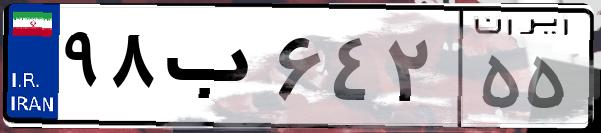2: (385, 28, 445, 110)
4: (330, 28, 385, 110)
5: (475, 38, 525, 113), (525, 38, 570, 115)
6: (270, 28, 330, 110)
8: (110, 28, 158, 98)
9: (57, 26, 110, 100)
ب: (158, 20, 270, 120)
